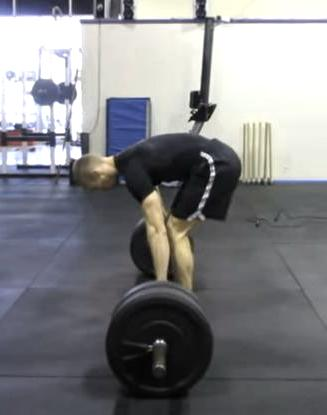Barbell: (148, 362, 166, 380)
